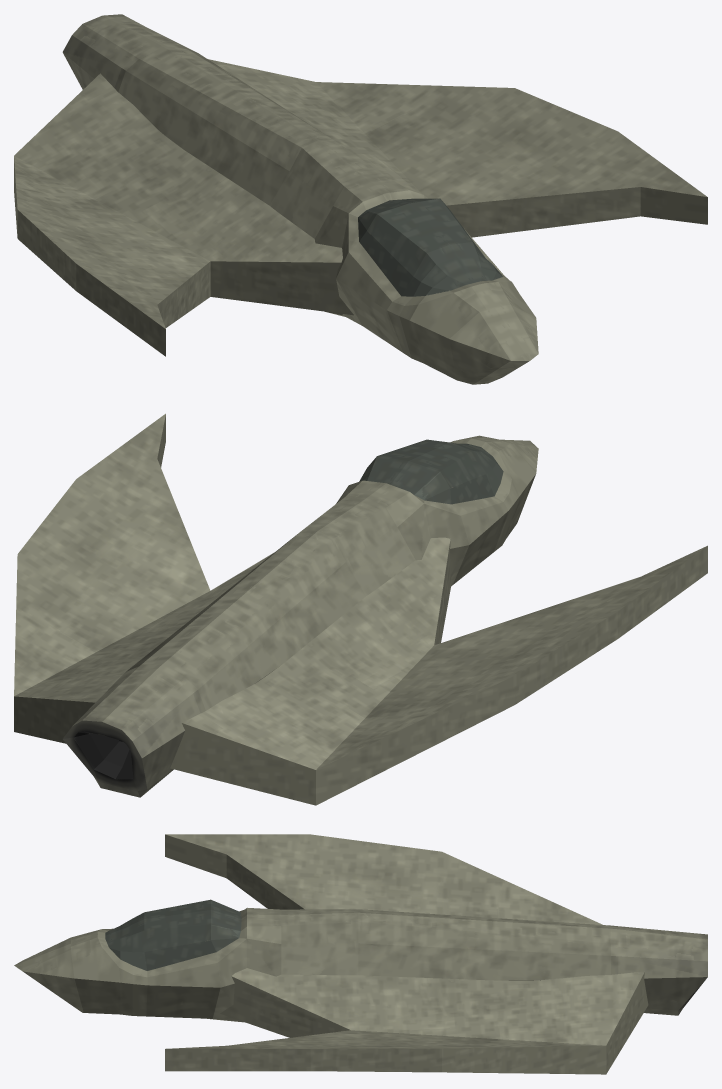
Rendered from SGFighter.obj.
3 renders of one model, top to bottom at view 1: azimuth 30°, elevation 25°; view 2: azimuth 150°, elevation 25°; view 3: azimuth 270°, elevation 25°, orthographic. The views are drawn at different scales.
Parts seen in each view (by area): view 1: Wings_Cube.001, Body_Cube; view 2: Wings_Cube.001, Body_Cube; view 3: Wings_Cube.001, Body_Cube.
Part boxes in pixels (left/top/right/bottom): Wings_Cube.001: left=14, top=59, right=707, bottom=356; Body_Cube: left=62, top=14, right=538, bottom=384; Wings_Cube.001: left=14, top=413, right=707, bottom=805; Body_Cube: left=63, top=435, right=538, bottom=797; Wings_Cube.001: left=165, top=834, right=648, bottom=1074; Body_Cube: left=14, top=899, right=707, bottom=1022.
Size of the model in its own units: 8.28 by 2.12 by 11.32.
2 materials, 2 textured.
